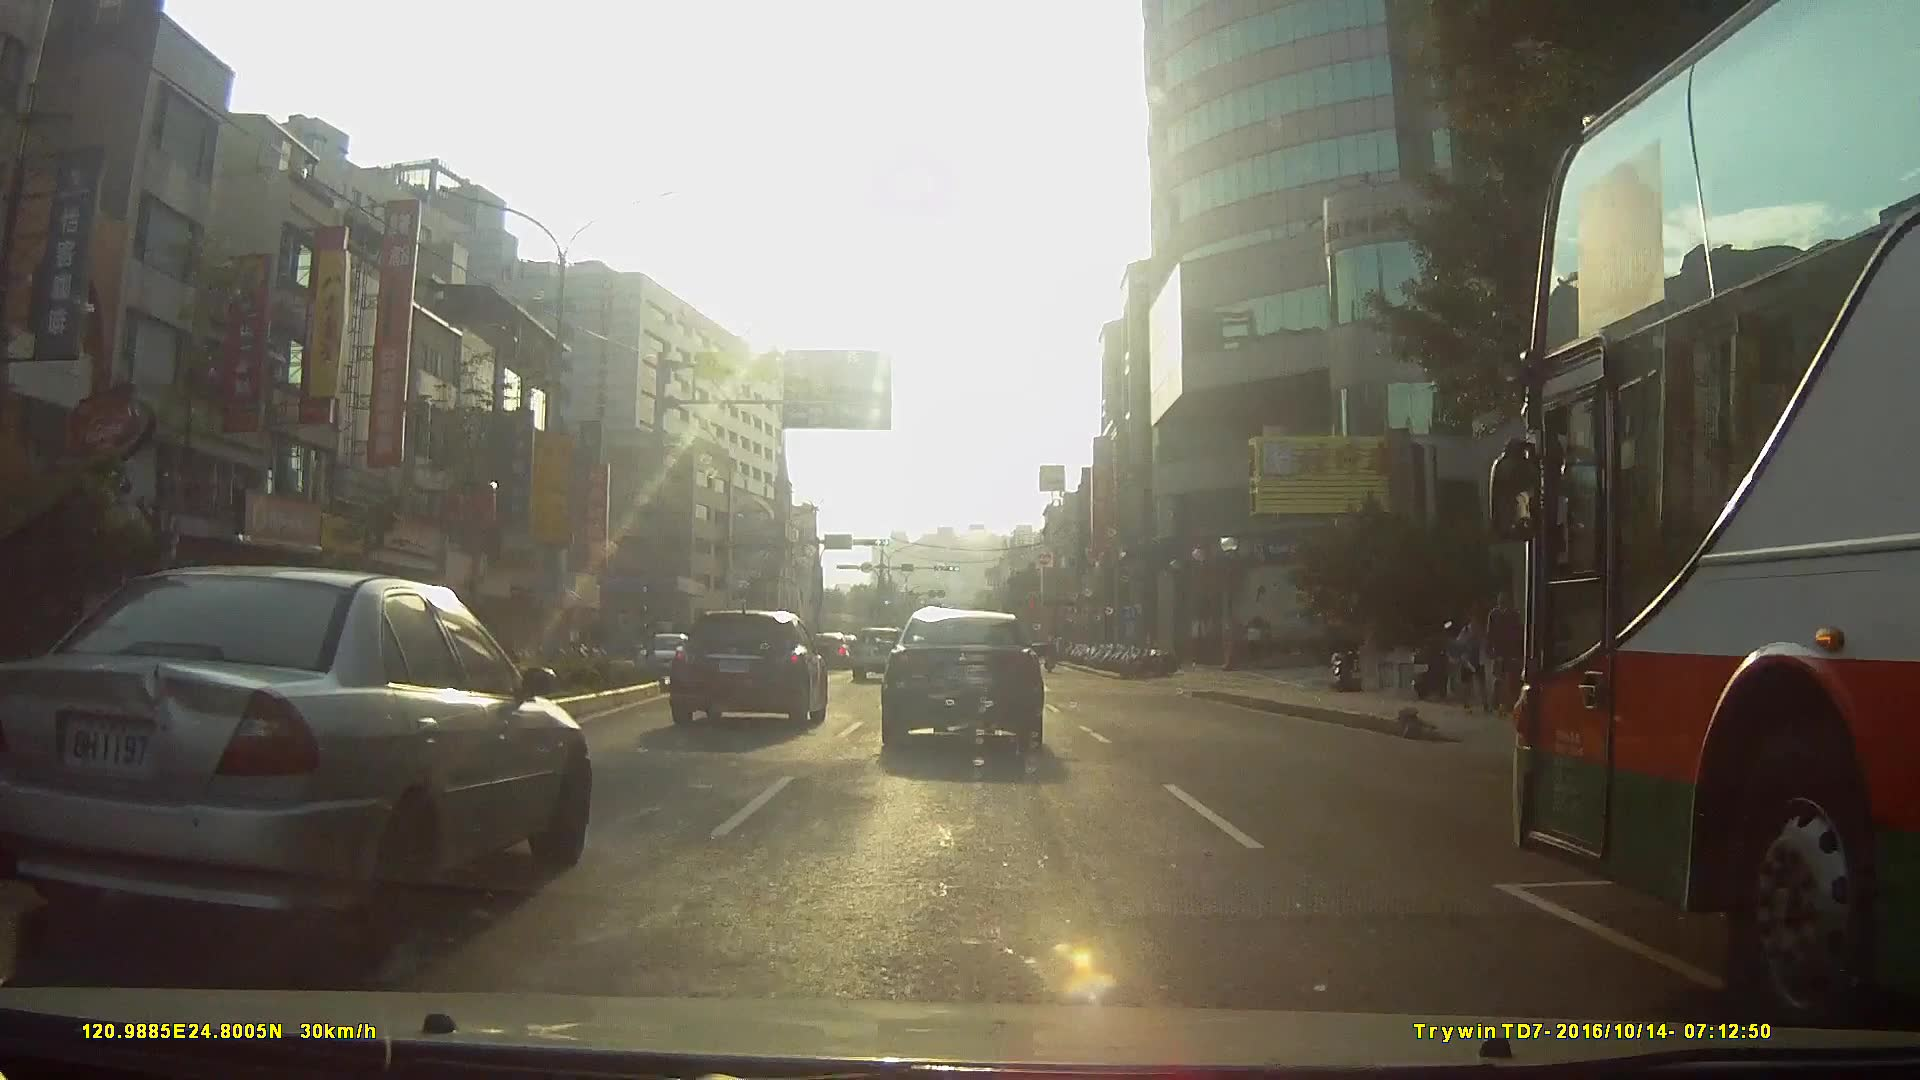pedestrian: (1481, 589, 1532, 719), (1452, 611, 1499, 713)
vehicle: (1470, 1, 1920, 1011), (0, 565, 592, 960), (875, 609, 1043, 754), (667, 613, 828, 734), (847, 626, 907, 681), (640, 633, 698, 682)
